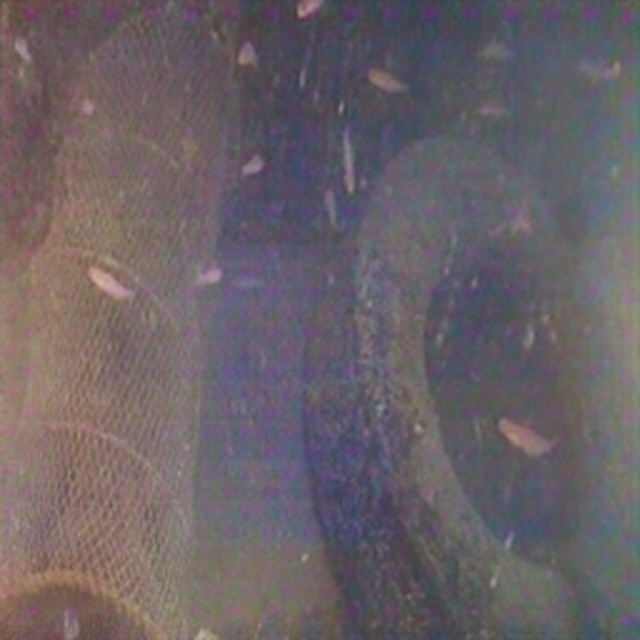mine: (300, 134, 640, 639), (0, 0, 238, 639)
